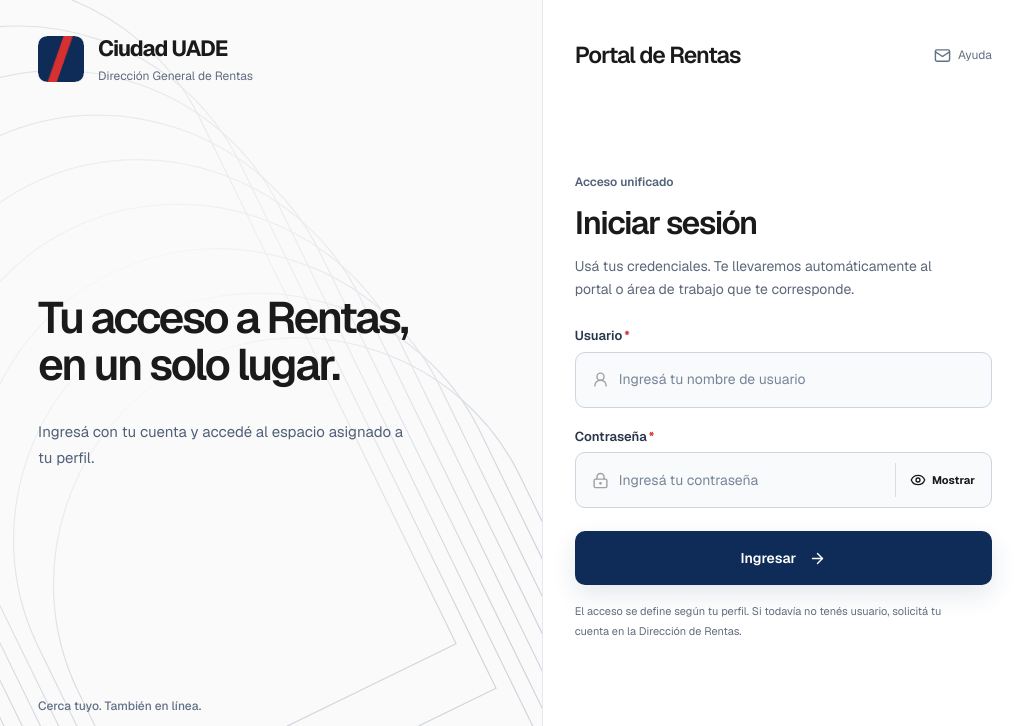
configuración de tributos › aclara que los cambios rigen hacia adelante
Type "mrivas" into the field labelled "Usuario*".
click(797, 380); type("mrivas")  # box [619,366,975,394]
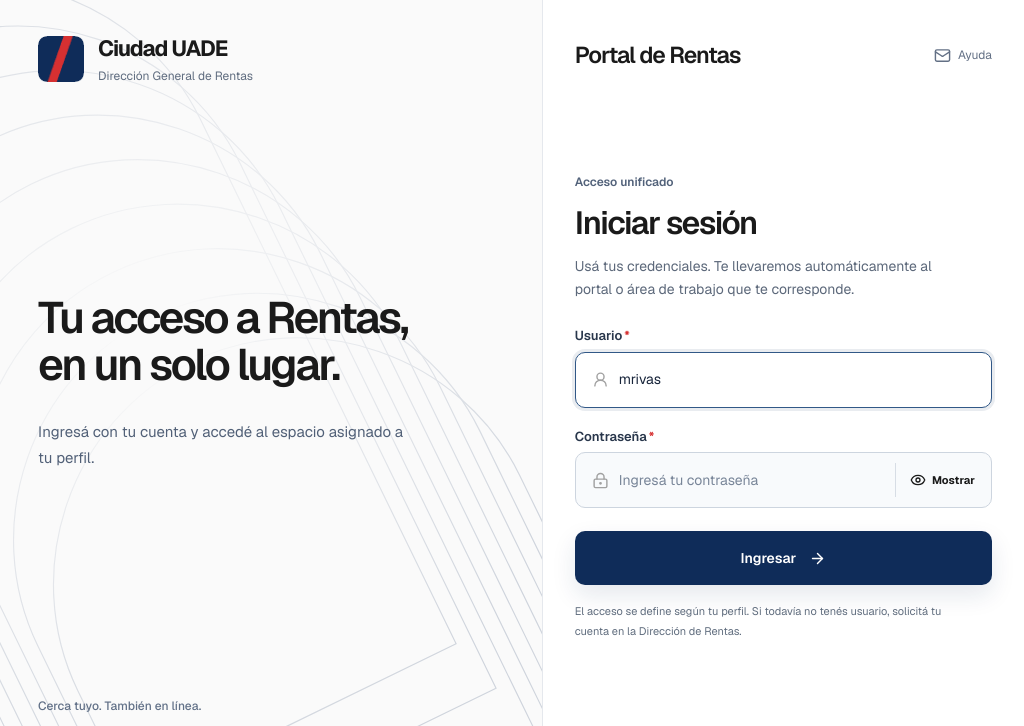
Type "rentas123" into the password field labelled "Contraseña*".
click(750, 480); type("rentas123")  # box [619,466,881,494]
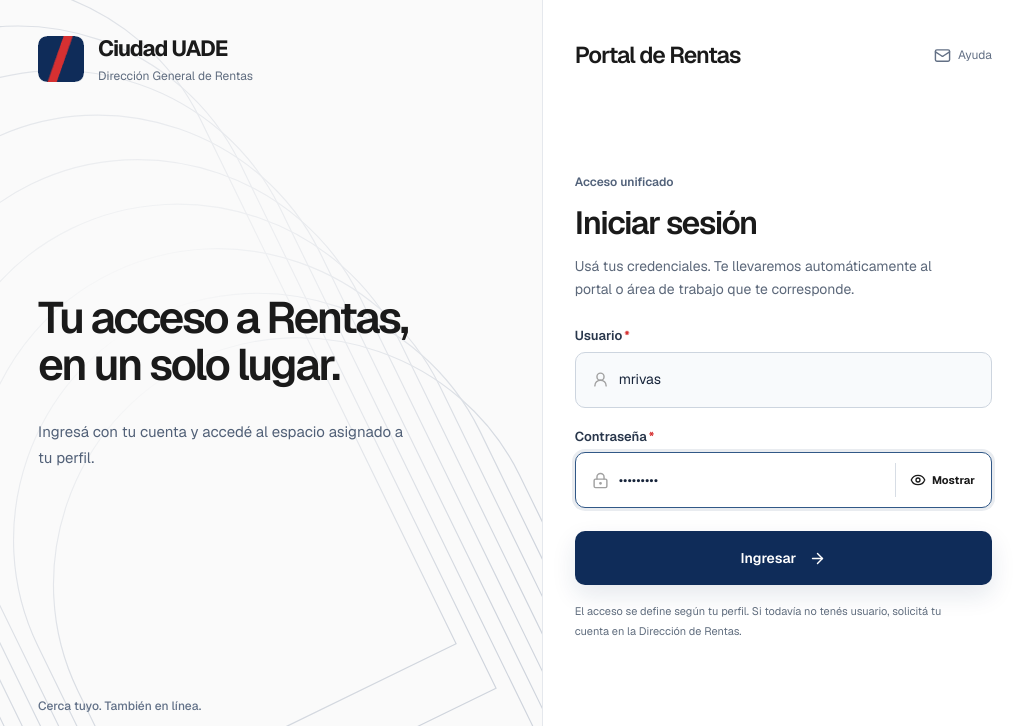
Click the button "Ingresar".
click(783, 558)  # box [575,531,992,585]
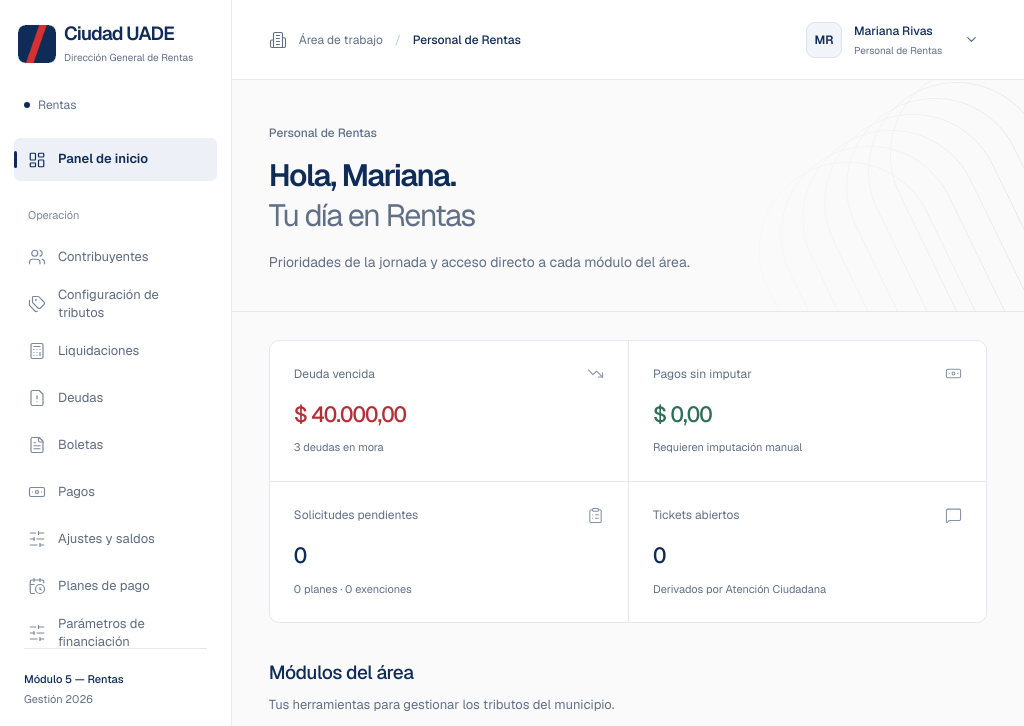
Expected: the heading "Hola, Mariana. Tu día en Rentas" is shown, [269,155,475,235]
Click the link "Configuración de tributos".
click(93, 303)  # box [28,286,159,321]
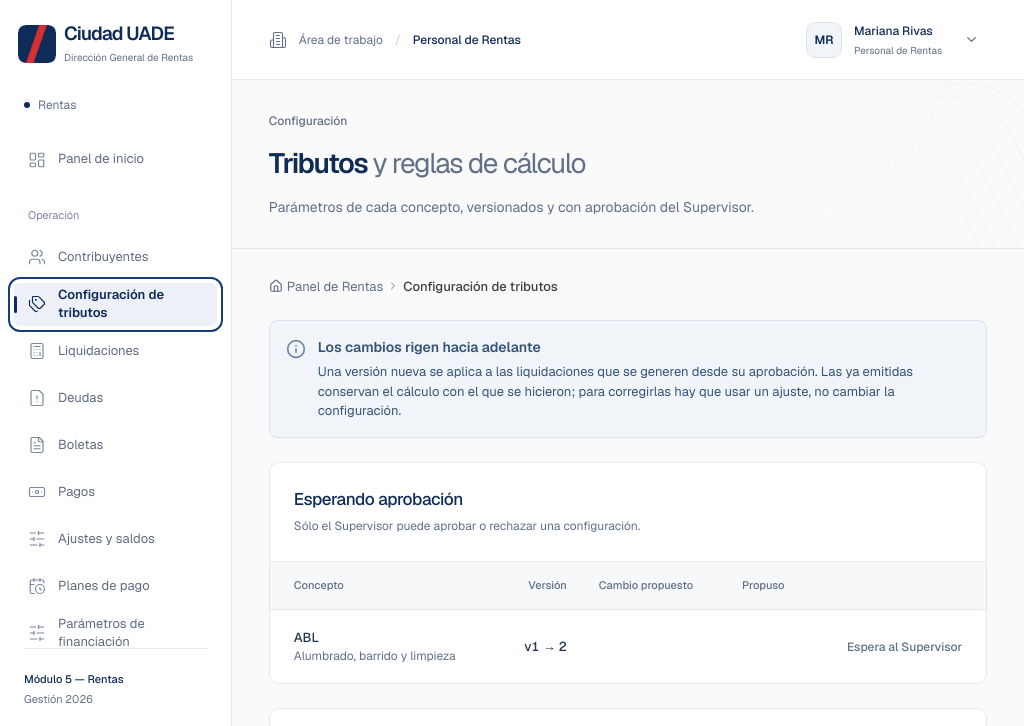
Expected: the text "Los cambios rigen hacia adelante" is shown, [318,338,541,356]
